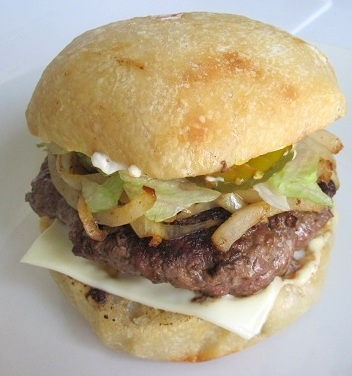hamburger_buns: (19, 14, 334, 364)
